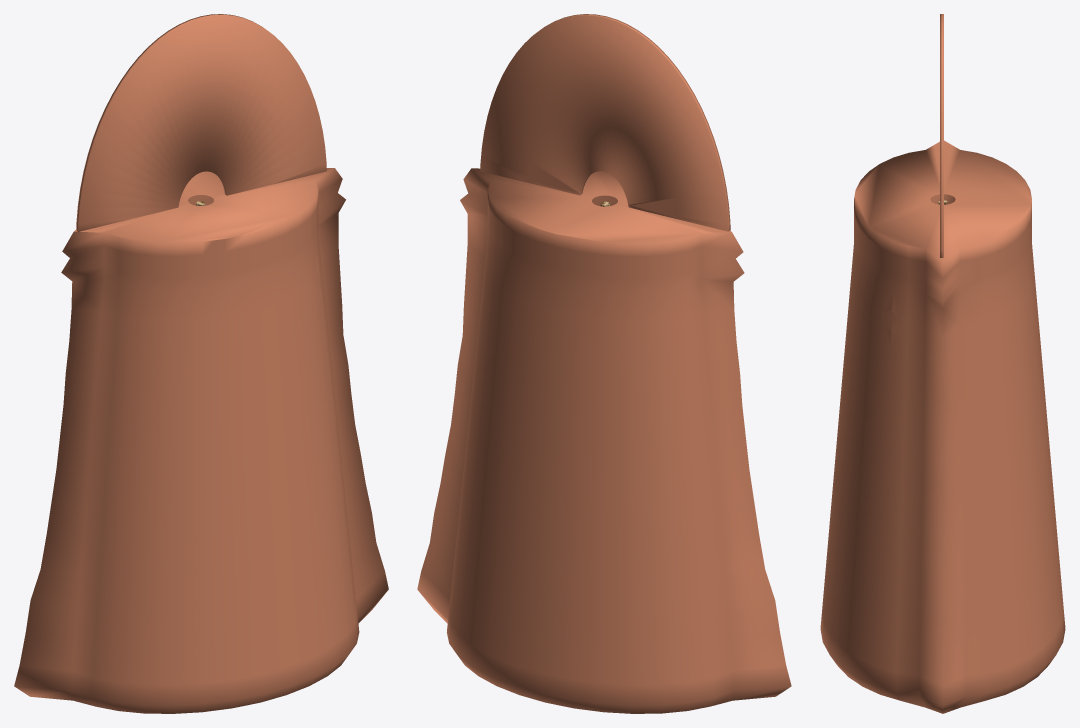
The model's file is doutaku2.glb.
The picture shows the model from 3 angles, left to right: view 1: azimuth 30°, elevation 25°; view 2: azimuth 150°, elevation 25°; view 3: azimuth 270°, elevation 25°; orthographic projection. The views are drawn at different scales.
Visible parts, largest first — view 1: 円柱; view 2: 円柱; view 3: 円柱.
Part boxes in pixels (x1,y1,x2,y2): 円柱: (14,14,388,713); 円柱: (417,14,791,713); 円柱: (820,14,1065,713).
Size of the model in its own units: 2.73 by 4.49 by 1.61.
5 materials, 1 textured.
